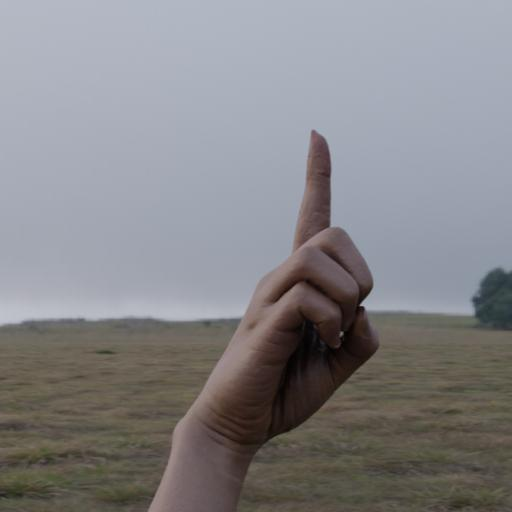D: (188, 123, 387, 468)
